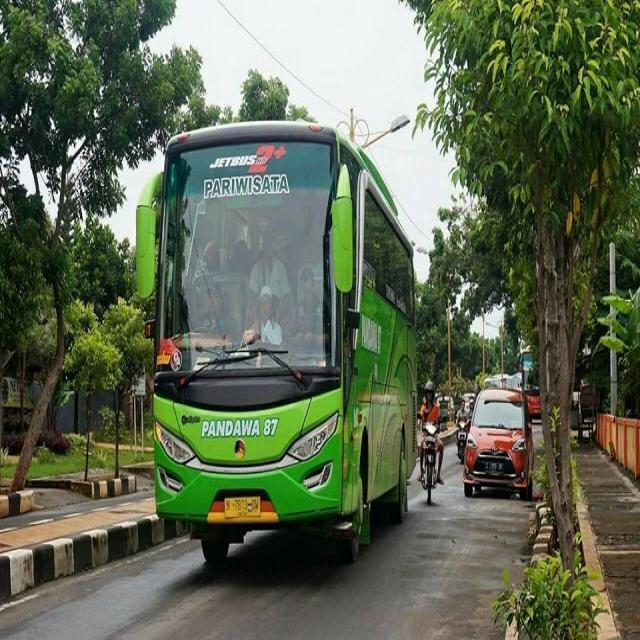Bus: (113, 103, 431, 581)
Car: (455, 380, 547, 517)
Motorbike: (398, 390, 459, 515)
